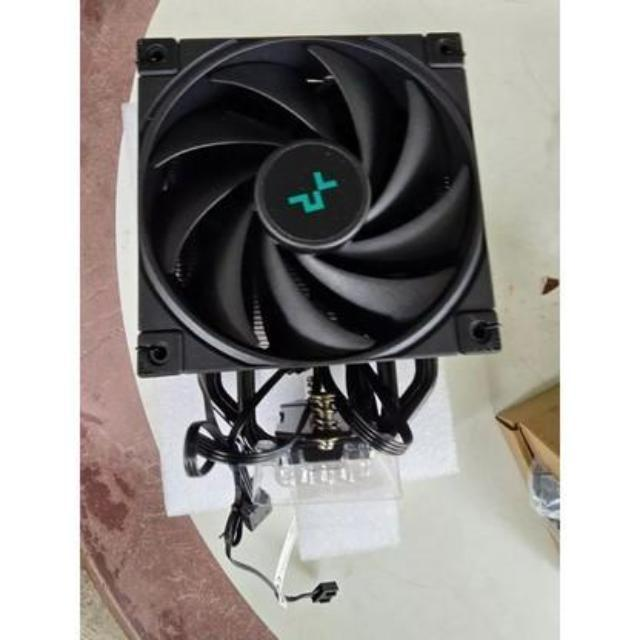CPU_Fan: (127, 30, 502, 472)
